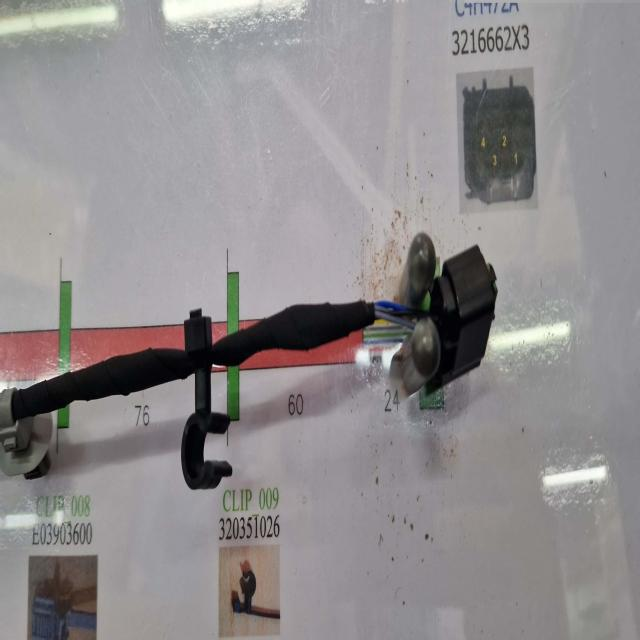Clip: (180, 310, 231, 492), (0, 388, 49, 478)
Connector: (427, 242, 496, 391)
Gape: (360, 272, 434, 367)
MHEV_N11_Cable: (11, 345, 192, 421), (205, 304, 370, 369)
